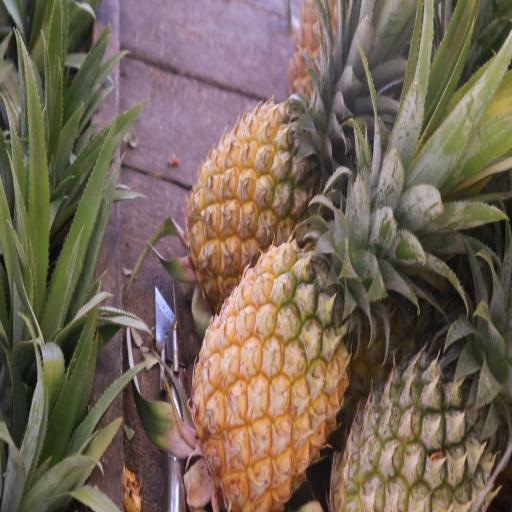Pineapple - v8 v1: (186, 194, 357, 508), (182, 76, 348, 300)
